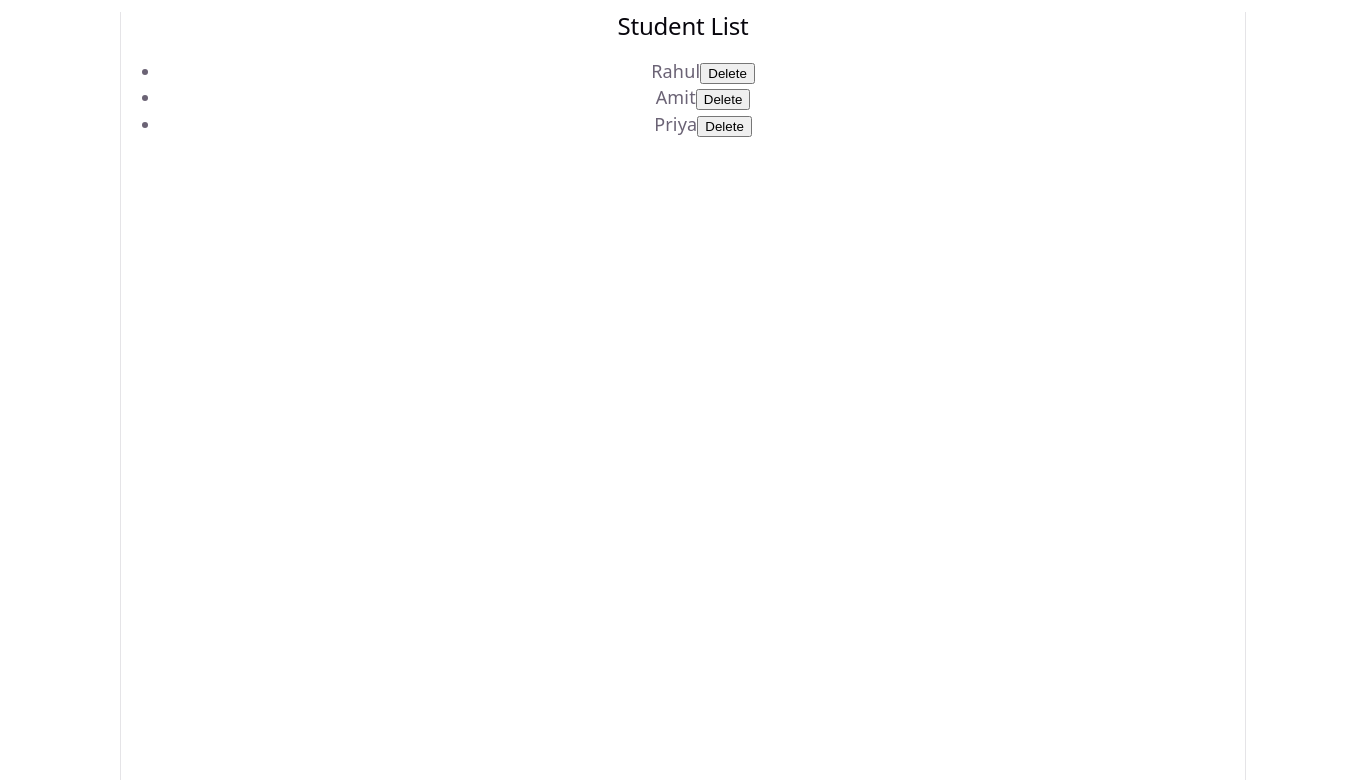
Scenario: StudentList › deletes a student and removes them from the list
Click the button with aria-label "Delete Rahul". click: click(728, 74)
box: 700,63 -> 755,84
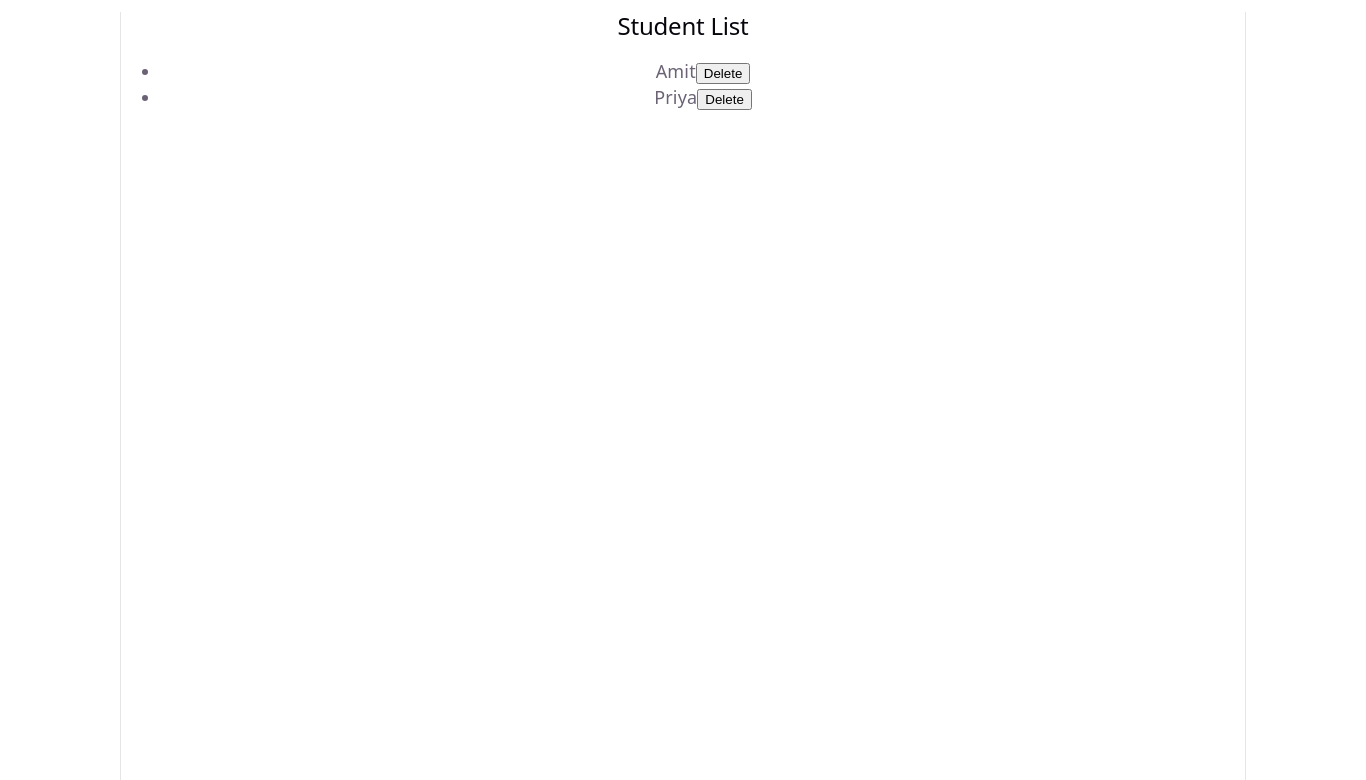
Result: the list item "Rahul" is gone
